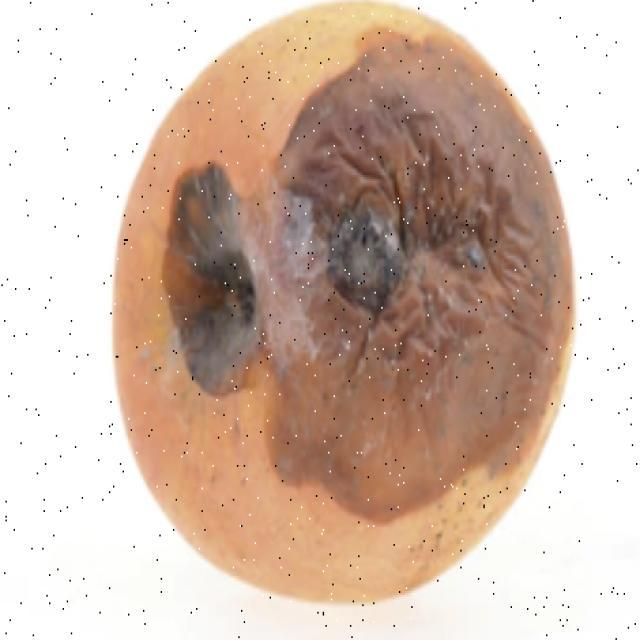Rotten: (112, 5, 568, 602)
